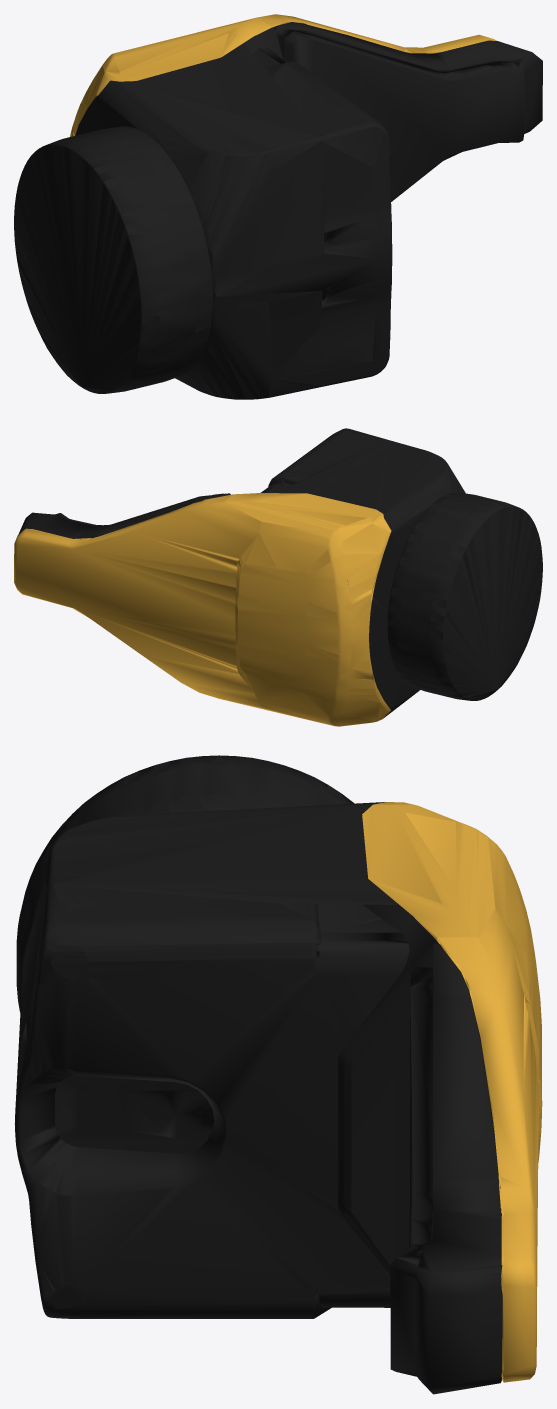
The model's file is arm_link_wr1.obj.
The picture shows the model from 3 angles, top to bottom: view 1: azimuth 30°, elevation 25°; view 2: azimuth 150°, elevation 25°; view 3: azimuth 270°, elevation 25°; orthographic projection. The views are drawn at different scales.
Parts seen in each view (by area): view 1: arm0.link_wr1; view 2: arm0.link_wr1; view 3: arm0.link_wr1.
Part boxes in pixels (x1,y1,x2,y2): arm0.link_wr1: [14, 14, 542, 399]; arm0.link_wr1: [14, 428, 542, 726]; arm0.link_wr1: [14, 755, 542, 1394].
Size of the model in its own units: 0.1802 by 0.0839 by 0.099.
